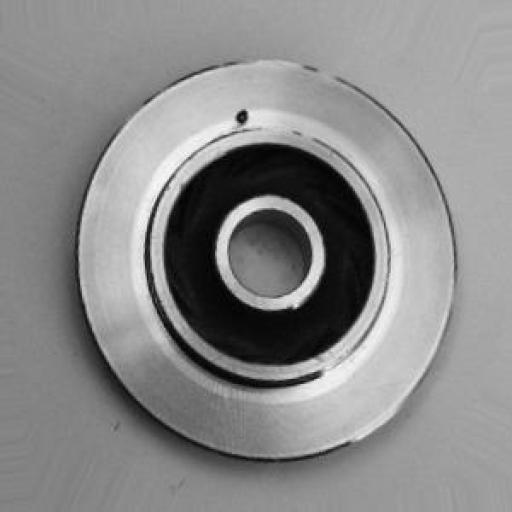defect: (207, 88, 268, 146)
